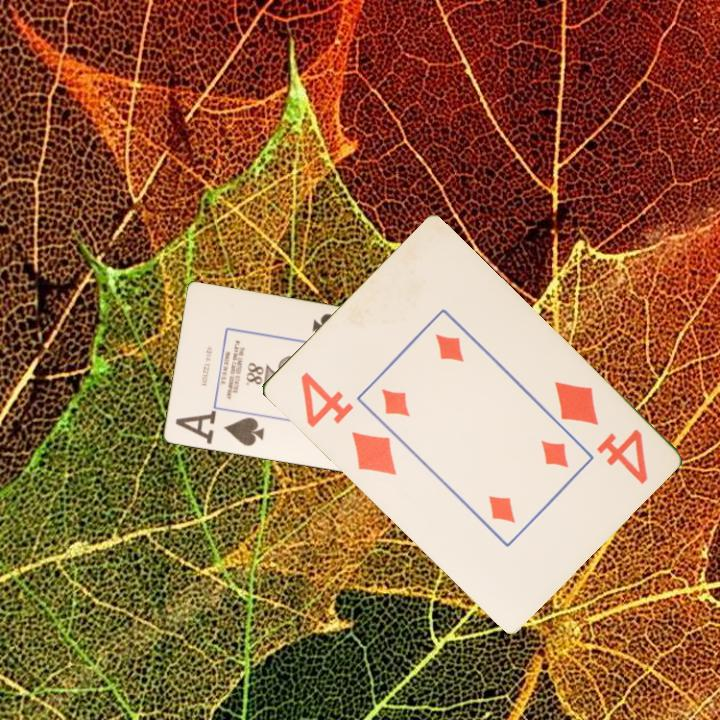4d: (296, 368, 399, 479), (549, 377, 651, 488)
As: (180, 414, 267, 449)
